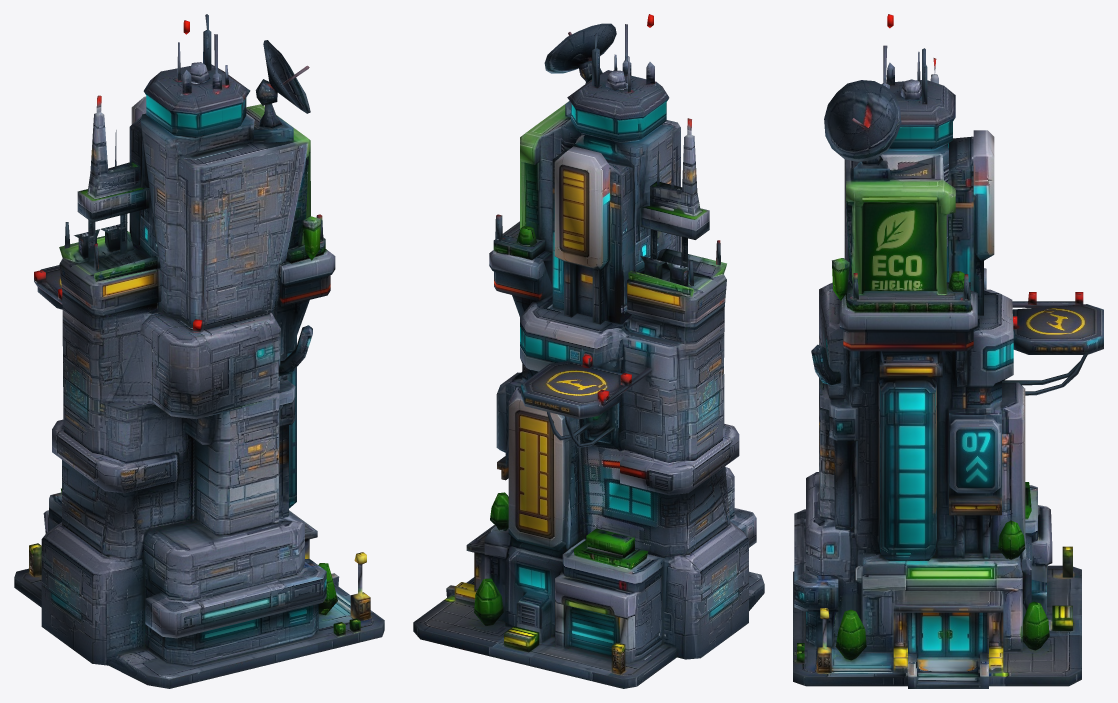
The model's file is tower_02.glb.
3 renders of one model, left to right at view 1: azimuth 30°, elevation 25°; view 2: azimuth 150°, elevation 25°; view 3: azimuth 270°, elevation 25°, orthographic. The views are drawn at different scales.
Visible parts, largest first — view 1: tripo_node_9715650b-e9a5-43df-8075-f533de325c41; view 2: tripo_node_9715650b-e9a5-43df-8075-f533de325c41; view 3: tripo_node_9715650b-e9a5-43df-8075-f533de325c41.
Boxes of the visible parts, left/top/right/bottom form: tripo_node_9715650b-e9a5-43df-8075-f533de325c41: left=14, top=14, right=384, bottom=688; tripo_node_9715650b-e9a5-43df-8075-f533de325c41: left=413, top=14, right=764, bottom=688; tripo_node_9715650b-e9a5-43df-8075-f533de325c41: left=793, top=14, right=1103, bottom=688.
Size of the model in its own units: 0.4434 by 0.998 by 0.4707.
1 material, 1 textured.
